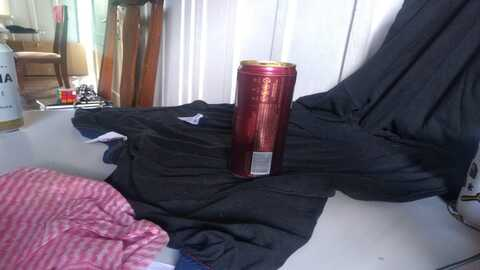duplo_malte: (230, 57, 295, 187)
